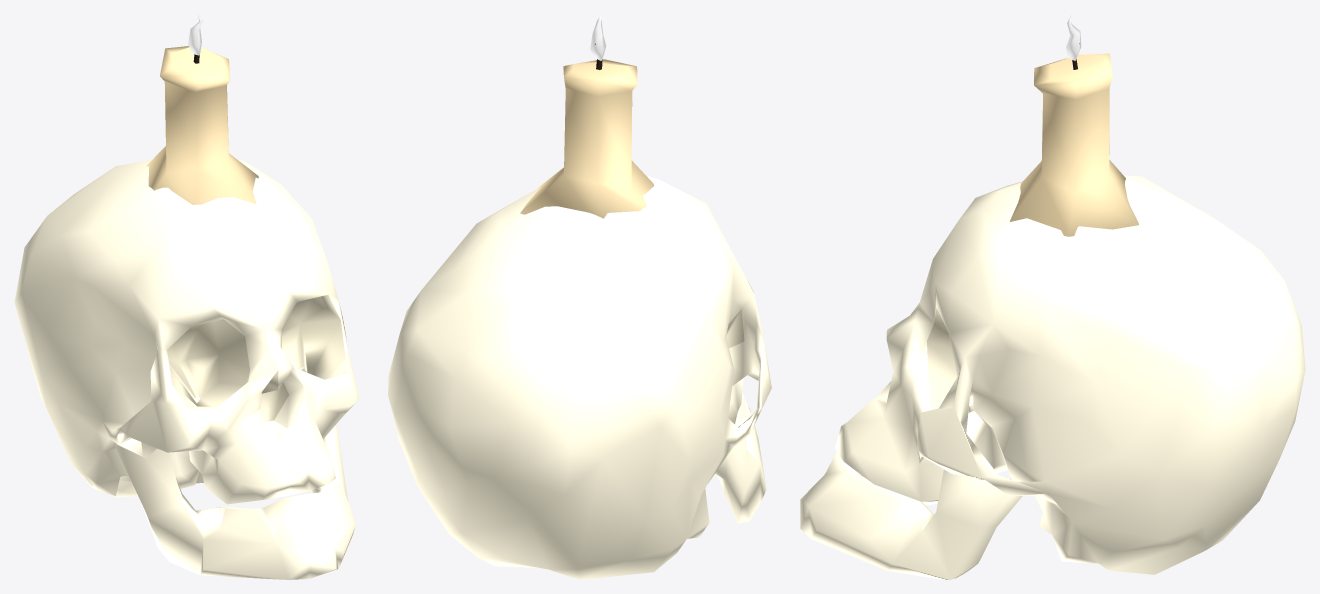
File: CandleSkullShapeB.004.glb
3 views of the same model, side by side, from view 1: azimuth 30°, elevation 25°; view 2: azimuth 150°, elevation 25°; view 3: azimuth 270°, elevation 25° (orthographic). The views are drawn at different scales.
Visible parts, largest first — view 1: CandleSkullShapeB.004; view 2: CandleSkullShapeB.004; view 3: CandleSkullShapeB.004.
Part boxes in pixels (box(x1,y1,x2,y2)): CandleSkullShapeB.004: box(14, 14, 359, 579); CandleSkullShapeB.004: box(388, 14, 771, 579); CandleSkullShapeB.004: box(800, 14, 1305, 579).
Bounding box in the file's own units: 0.2005 × 0.3649 × 0.3132.
2 materials, 2 textured.
